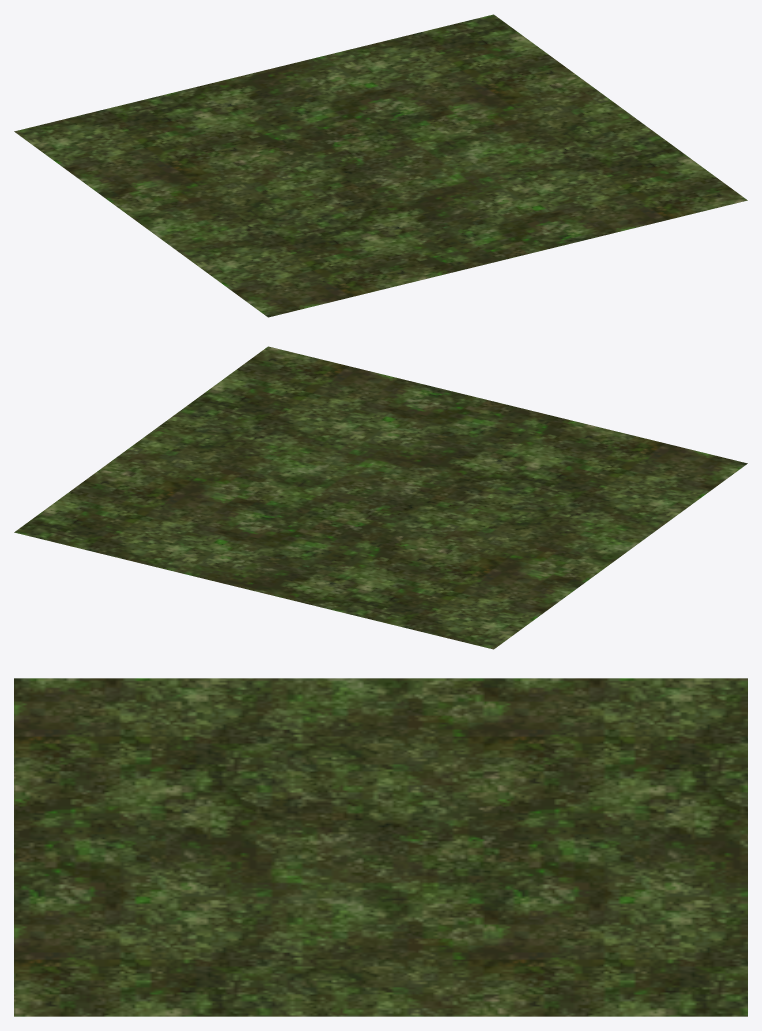
File: OVERHILL_A_01_PLANE133.fbx
3 views of the same model, one above another, from view 1: azimuth 30°, elevation 25°; view 2: azimuth 150°, elevation 25°; view 3: azimuth 270°, elevation 25° (orthographic). The views are drawn at different scales.
Visible parts, largest first — view 1: OVERHILL_A_01_PLANE133; view 2: OVERHILL_A_01_PLANE133; view 3: OVERHILL_A_01_PLANE133.
Boxes of the visible parts, x1,y1,x2,y2 form: OVERHILL_A_01_PLANE133: (14,14,747,317); OVERHILL_A_01_PLANE133: (14,346,747,649); OVERHILL_A_01_PLANE133: (14,678,747,1016).
Size of the model in its own units: 53148 by 0.0446 by 48762.
Materials: 1 (1 with a texture image).
